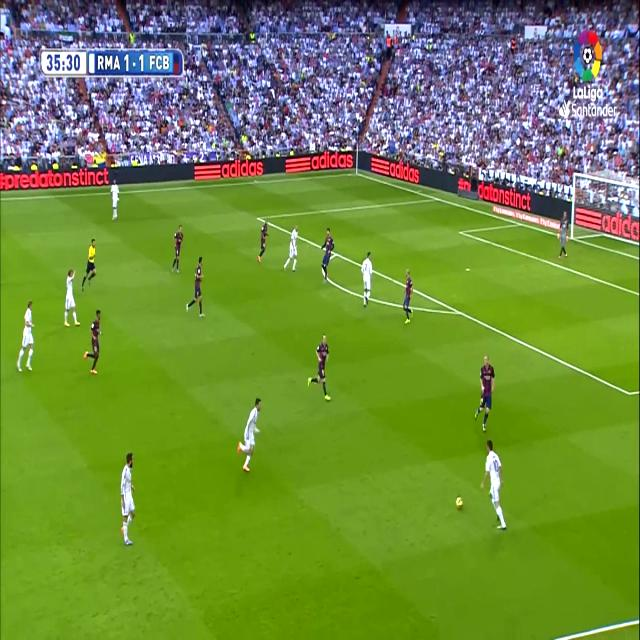bigarea_bottom_inner: (625, 382, 635, 404)
bigarea_top_inner: (255, 212, 260, 222)
corner: (352, 167, 361, 178)
top_arc_area_intersection: (332, 247, 340, 260)
